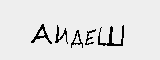А: (29, 22, 51, 44)
Д: (69, 28, 86, 50)
Е: (83, 29, 98, 46)
И: (54, 24, 69, 45)
Ш: (95, 24, 127, 46)
